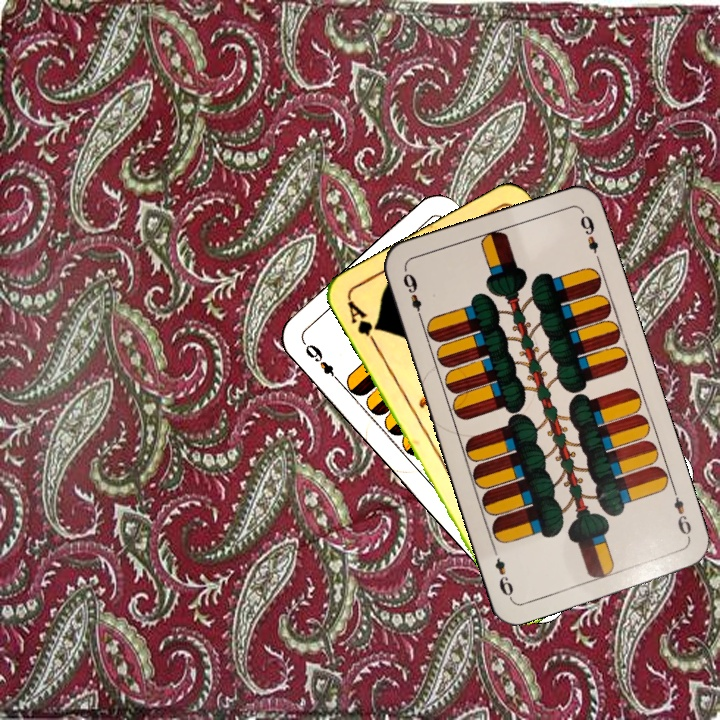E9: (300, 339, 344, 387), (668, 485, 694, 543), (399, 269, 426, 324)
GA: (343, 296, 382, 350)
